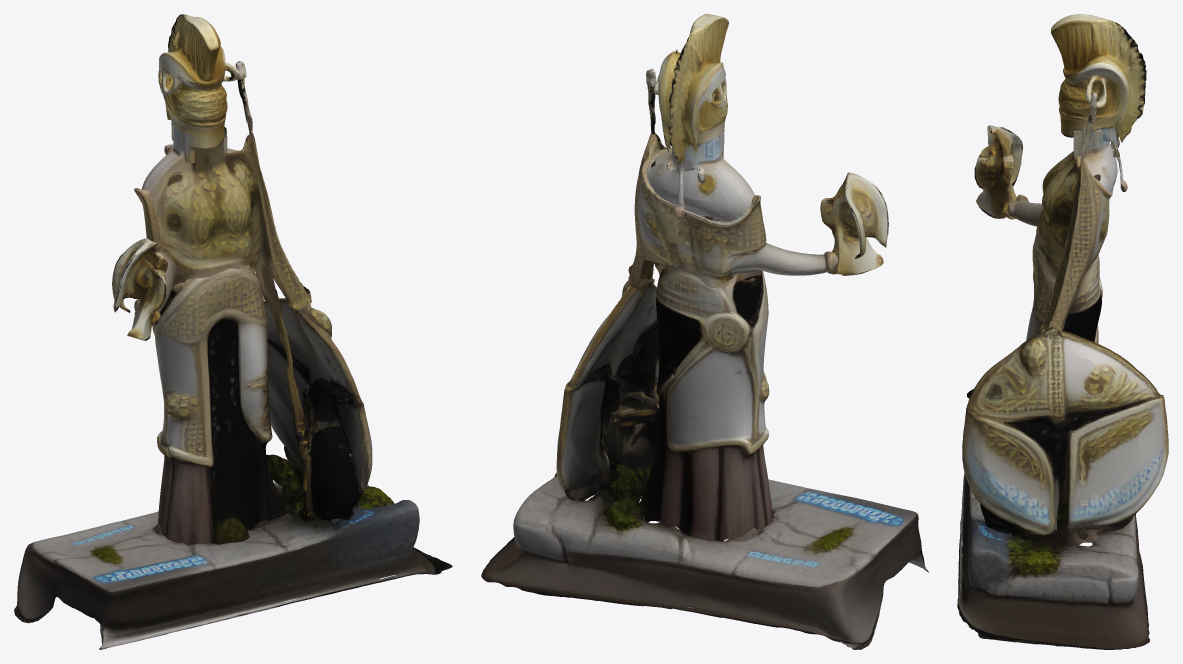
3 views of the same model, side by side, from view 1: azimuth 30°, elevation 25°; view 2: azimuth 150°, elevation 25°; view 3: azimuth 270°, elevation 25° (orthographic). The views are drawn at different scales.
Parts seen in each view (by area): view 1: part_0, part_5, part_3, part_4, part_2, part_6, part_1; view 2: part_0, part_5, part_3, part_4, part_2, part_6, part_1; view 3: part_4, part_0, part_3, part_2, part_5, part_6.
Part boxes in pixels (left/top/right/bottom): part_0: left=14, top=482, right=452, bottom=649; part_5: left=152, top=264, right=294, bottom=544; part_3: left=134, top=61, right=311, bottom=490; part_4: left=264, top=298, right=372, bottom=520; part_2: left=158, top=14, right=239, bottom=163; part_6: left=112, top=238, right=167, bottom=340; part_1: left=266, top=426, right=353, bottom=521; part_0: left=481, top=473, right=928, bottom=649; part_5: left=638, top=252, right=772, bottom=541; part_3: left=628, top=69, right=838, bottom=404; part_4: left=556, top=275, right=658, bottom=500; part_2: left=653, top=14, right=728, bottom=219; part_6: left=820, top=172, right=888, bottom=275; part_1: left=604, top=391, right=658, bottom=501; part_4: left=962, top=328, right=1168, bottom=546; part_0: left=957, top=472, right=1149, bottom=649; part_3: left=1007, top=91, right=1117, bottom=337; part_2: left=1051, top=14, right=1146, bottom=191; part_5: left=1026, top=236, right=1102, bottom=500; part_6: left=974, top=125, right=1022, bottom=219.
Size of the model in its own units: 0.6686 by 0.9851 by 0.3486.
7 materials, 7 textured.
